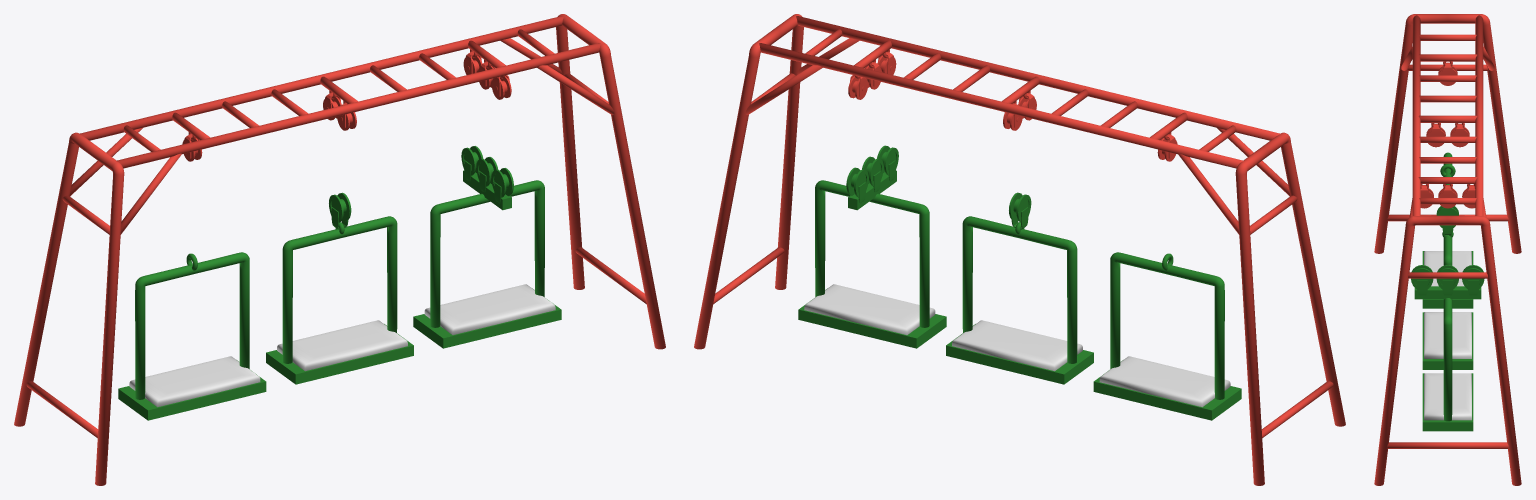
File: elevatupesov2.fbx
The picture shows the model from 3 angles, left to right: view 1: azimuth 30°, elevation 25°; view 2: azimuth 150°, elevation 25°; view 3: azimuth 270°, elevation 25°; orthographic projection. The views are drawn at different scales.
Visible parts, largest first — view 1: Pasa manos arco, soporte asiento 1, soporte asiento 2, Soporte Asiento 3, Cojin 2, Cojin 3, Cojin 1; view 2: Pasa manos arco, soporte asiento 1, soporte asiento 2, Soporte Asiento 3, Cojin 2, Cojin 3, Cojin 1; view 3: Pasa manos arco, Soporte Asiento 3, Cojin 3, Cojin 2, soporte asiento 2, Cojin 1, gancho asiento 3, soporte asiento 1, Pasa manos Reforzados 3, Pasa manos Reforzados 1, Polea c 2, Polea c 1 (+9 smaller).
Boxes of the visible parts, box(x1,y1,x2,y2) form: Pasa manos arco: box(14, 14, 665, 485); soporte asiento 1: box(118, 252, 266, 420); soporte asiento 2: box(266, 216, 413, 384); Soporte Asiento 3: box(413, 180, 561, 348); Cojin 2: box(277, 320, 407, 371); Cojin 3: box(424, 284, 555, 334); Cojin 1: box(129, 356, 260, 407); Pasa manos arco: box(694, 14, 1345, 485); soporte asiento 1: box(1093, 252, 1241, 420); soporte asiento 2: box(946, 216, 1093, 384); Soporte Asiento 3: box(798, 180, 946, 348); Cojin 2: box(952, 320, 1082, 371); Cojin 3: box(804, 284, 935, 334); Cojin 1: box(1099, 356, 1230, 407); Pasa manos arco: box(1374, 14, 1521, 485); Soporte Asiento 3: box(1422, 298, 1473, 431); Cojin 3: box(1424, 373, 1471, 420); Cojin 2: box(1424, 312, 1471, 358); soporte asiento 2: box(1422, 235, 1473, 369); Cojin 1: box(1424, 251, 1471, 286); gancho asiento 3: box(1414, 286, 1481, 299); soporte asiento 1: box(1422, 152, 1473, 308); Pasa manos Reforzados 3: box(1418, 115, 1477, 122); Pasa manos Reforzados 1: box(1419, 54, 1476, 61); Polea c 2: box(1436, 265, 1458, 295); Polea c 1: box(1462, 265, 1484, 295).
Bounding box in the file's own units: 936 × 247 × 467.
